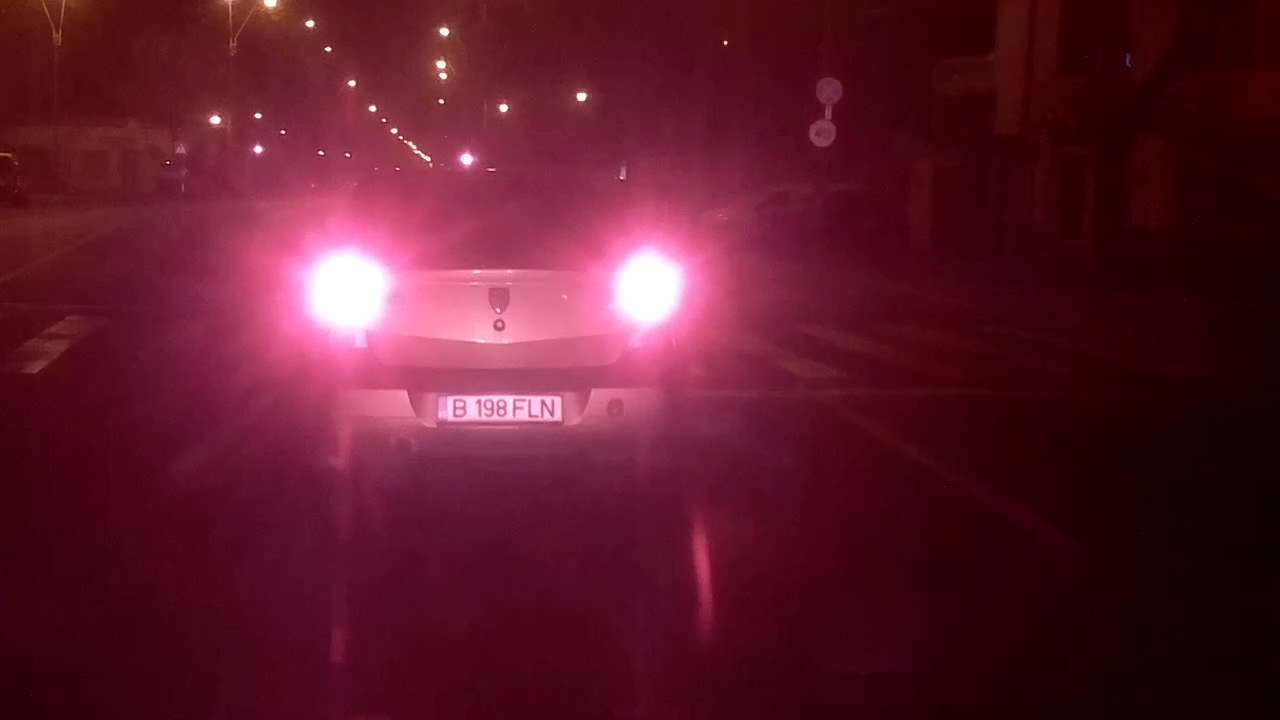license-plate: (431, 389, 568, 428)
